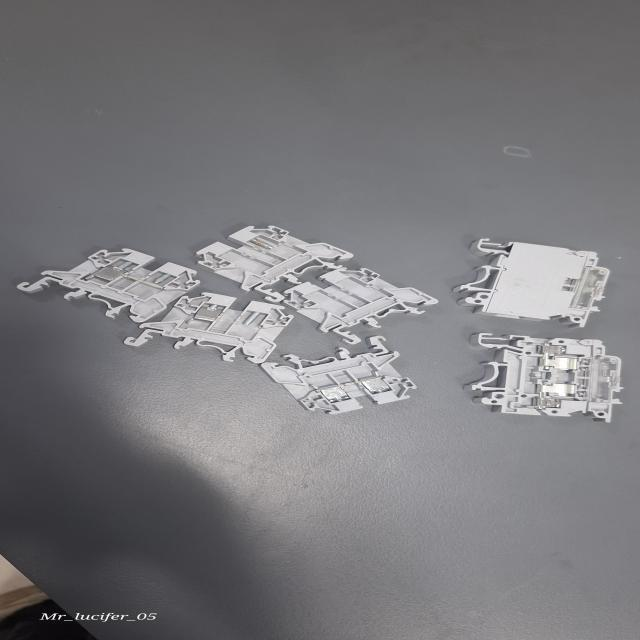Pass: (259, 335, 421, 415)
Reject: (12, 246, 201, 322), (274, 268, 442, 346), (196, 226, 355, 300), (122, 292, 290, 362)
